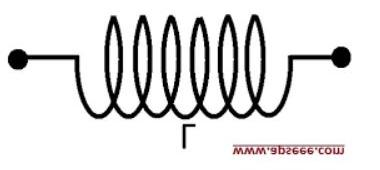inductor: (56, 8, 315, 116)
